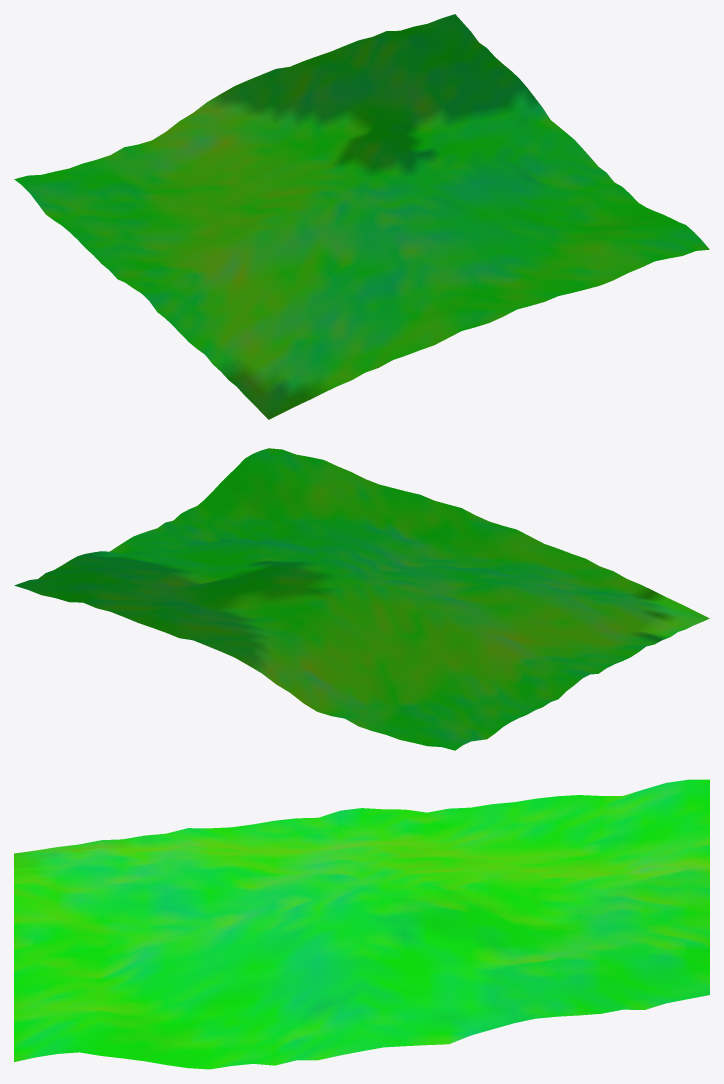
The picture shows the model from 3 angles, top to bottom: view 1: azimuth 30°, elevation 25°; view 2: azimuth 150°, elevation 25°; view 3: azimuth 270°, elevation 25°; orthographic projection. The views are drawn at different scales.
Visible parts, largest first — view 1: Terrain; view 2: Terrain; view 3: Terrain.
Boxes of the visible parts, x1=… form: Terrain: x1=14, y1=14, x2=709, y2=419; Terrain: x1=14, y1=448, x2=709, y2=750; Terrain: x1=14, y1=779, x2=709, y2=1069.
Size of the model in its own units: 64 by 15.6 by 64.
